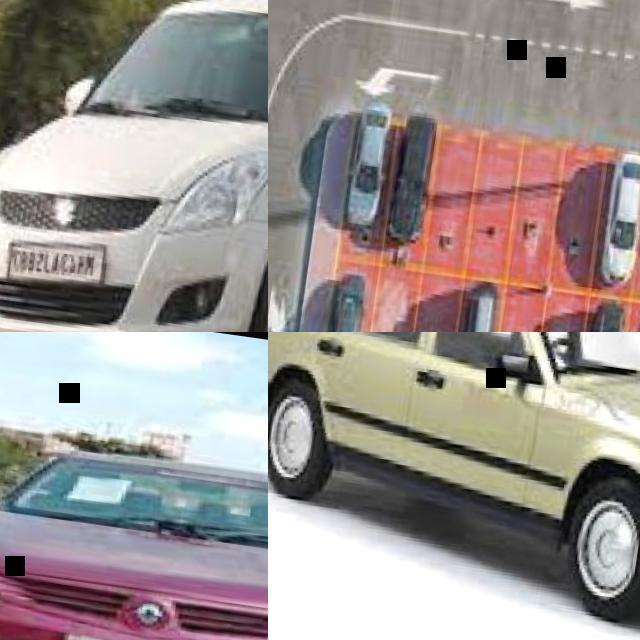car: (273, 333, 640, 630), (0, 0, 269, 336), (4, 437, 267, 640), (346, 92, 389, 238), (399, 111, 430, 248), (613, 148, 635, 290), (329, 271, 369, 324), (465, 274, 503, 322), (592, 296, 628, 334)
